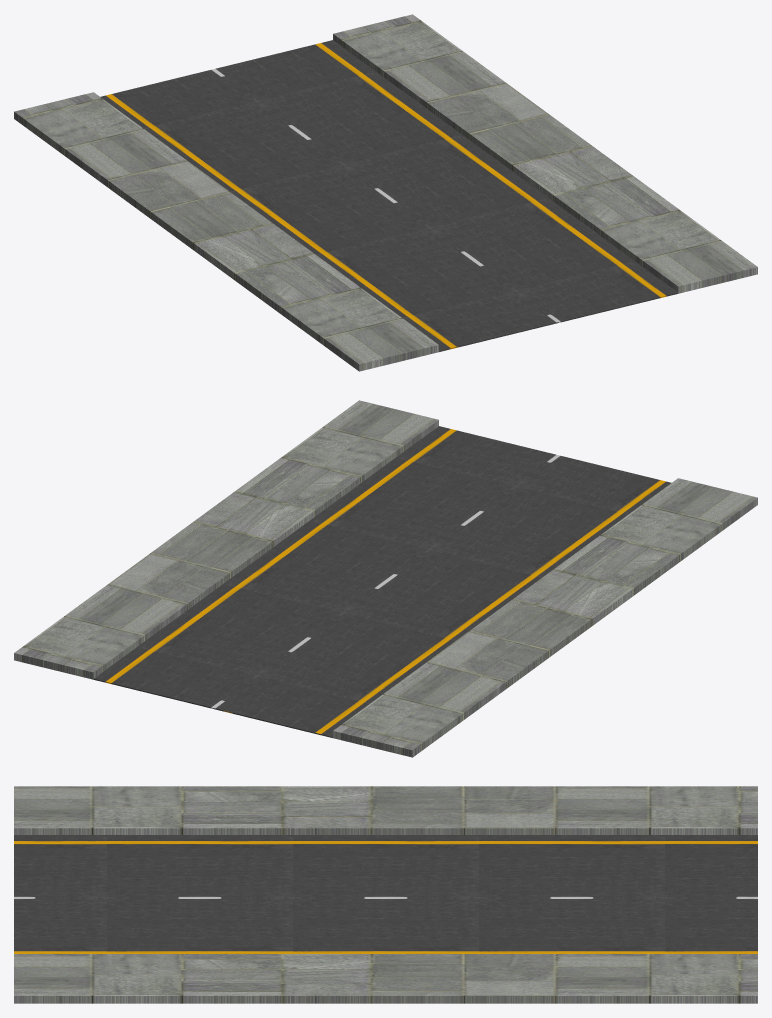
The model's file is road.fbx.
The picture shows the model from 3 angles, top to bottom: view 1: azimuth 30°, elevation 25°; view 2: azimuth 150°, elevation 25°; view 3: azimuth 270°, elevation 25°; orthographic projection. The views are drawn at different scales.
Visible parts, largest first — view 1: Box002, Box001, Box003, Box004; view 2: Box002, Box001, Box003, Box004; view 3: Box001, Box002, Box004, Box003.
Part boxes in pixels (<box>): Box002: <box>213,40,678,322</box>; Box001: <box>100,69,558,351</box>; Box003: <box>14,92,438,371</box>; Box004: <box>333,14,757,293</box>; Box002: <box>93,426,558,708</box>; Box001: <box>213,455,671,737</box>; Box003: <box>333,478,757,757</box>; Box004: <box>14,400,438,679</box>; Box001: <box>14,835,757,897</box>; Box002: <box>14,897,757,953</box>; Box004: <box>14,954,757,1003</box>; Box003: <box>14,786,757,834</box>.
Bounding box in the file's own units: 20 × 30 × 0.35.
2 materials, 2 textured.
